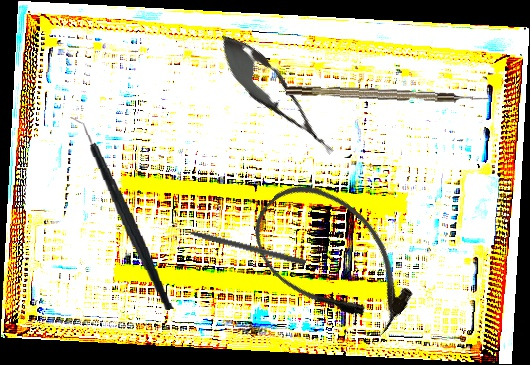Cannula: (235, 164, 433, 354)
Chopper: (63, 109, 177, 318)
Hook Surgical: (285, 83, 490, 106)
Micro Scissor: (206, 23, 347, 167)
Pusher: (168, 221, 307, 267)
